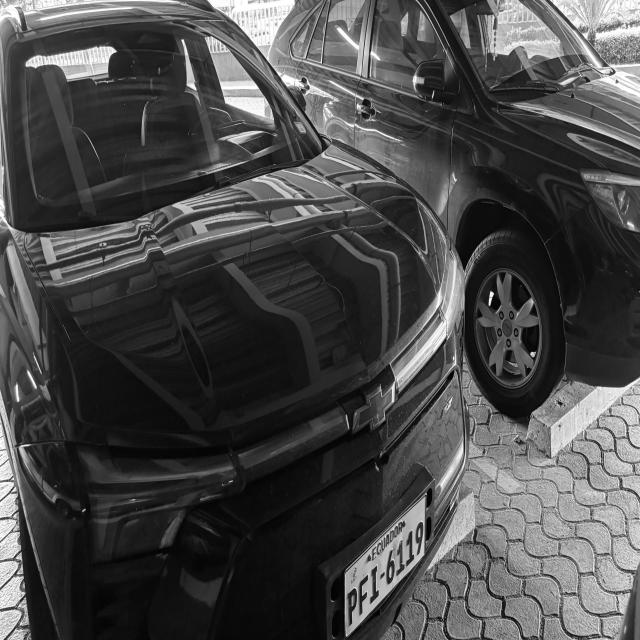Placa: (344, 496, 426, 636)
